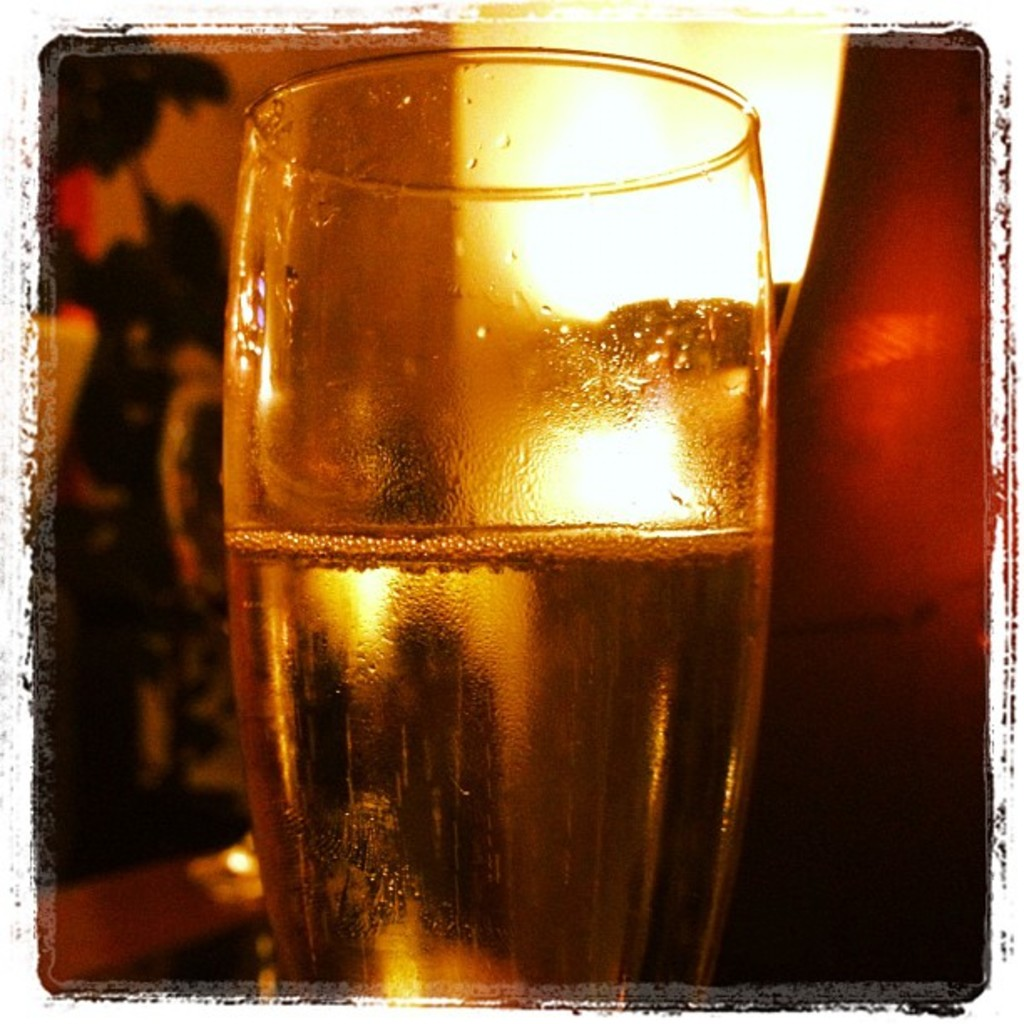Beer: (216, 42, 786, 1001)
